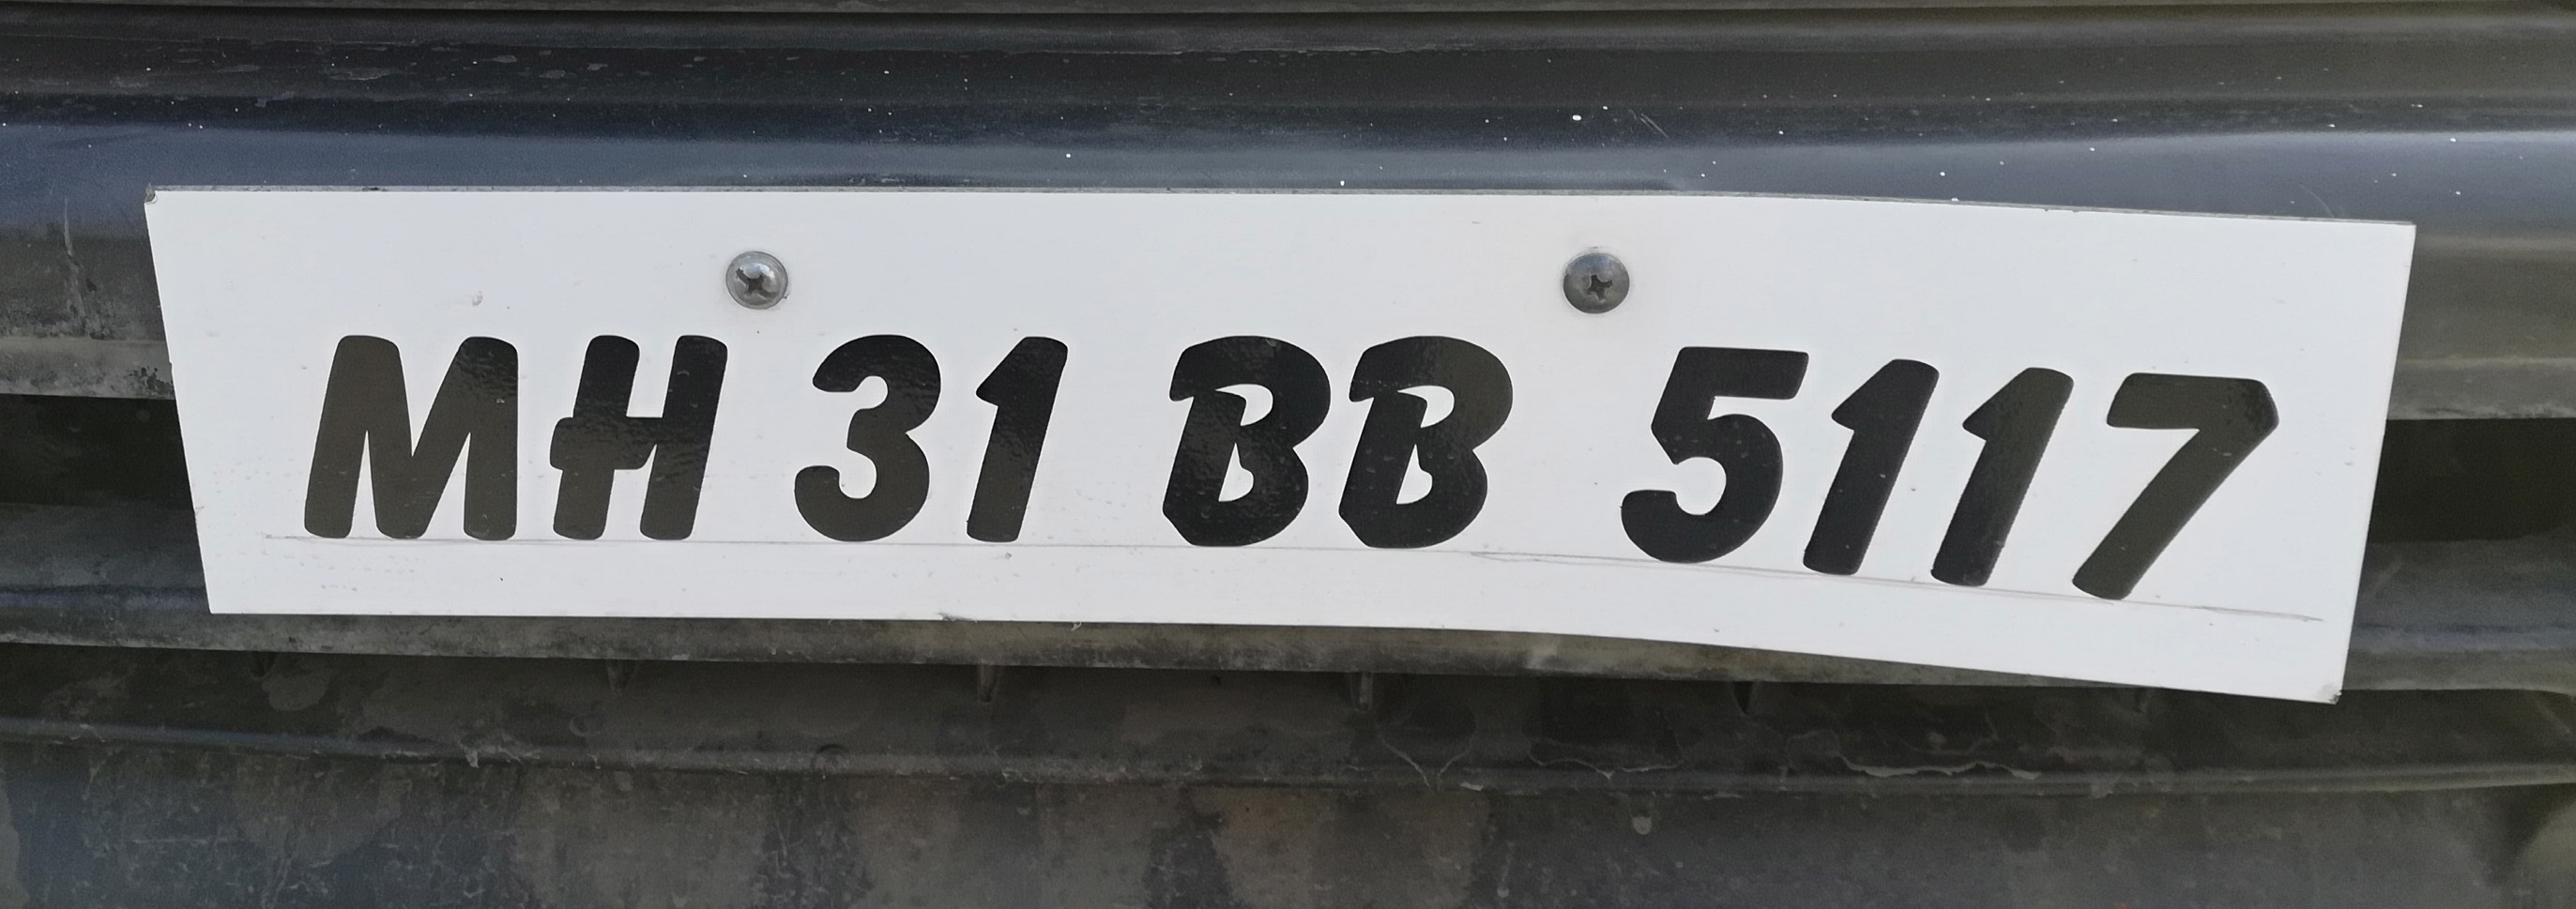numberplate: (140, 176, 2417, 721)
